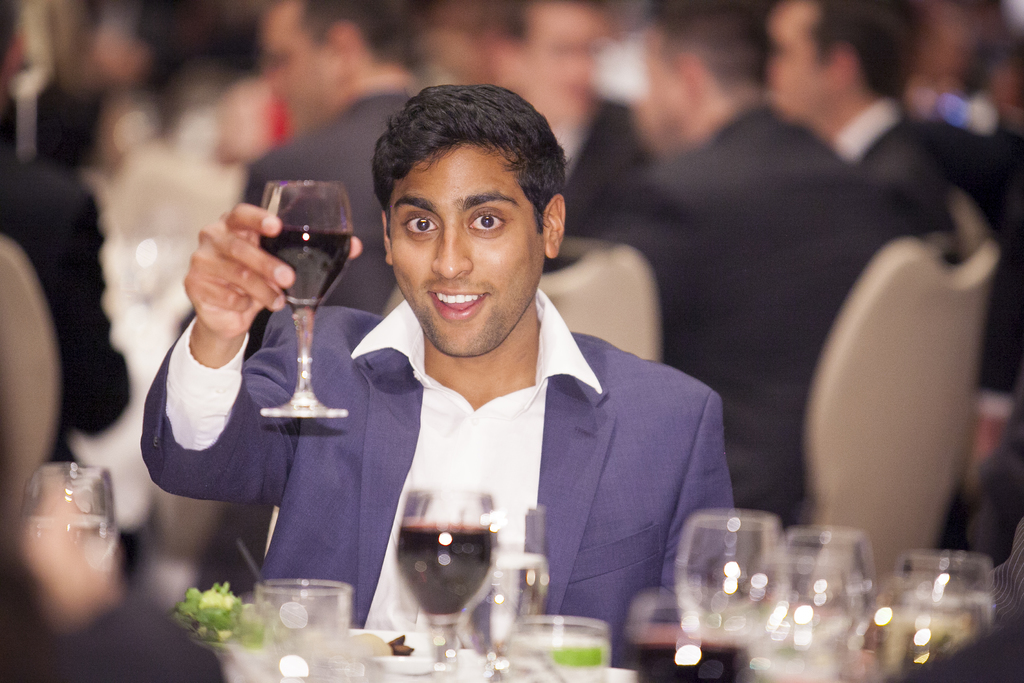Human_hand: (172, 192, 282, 383)
